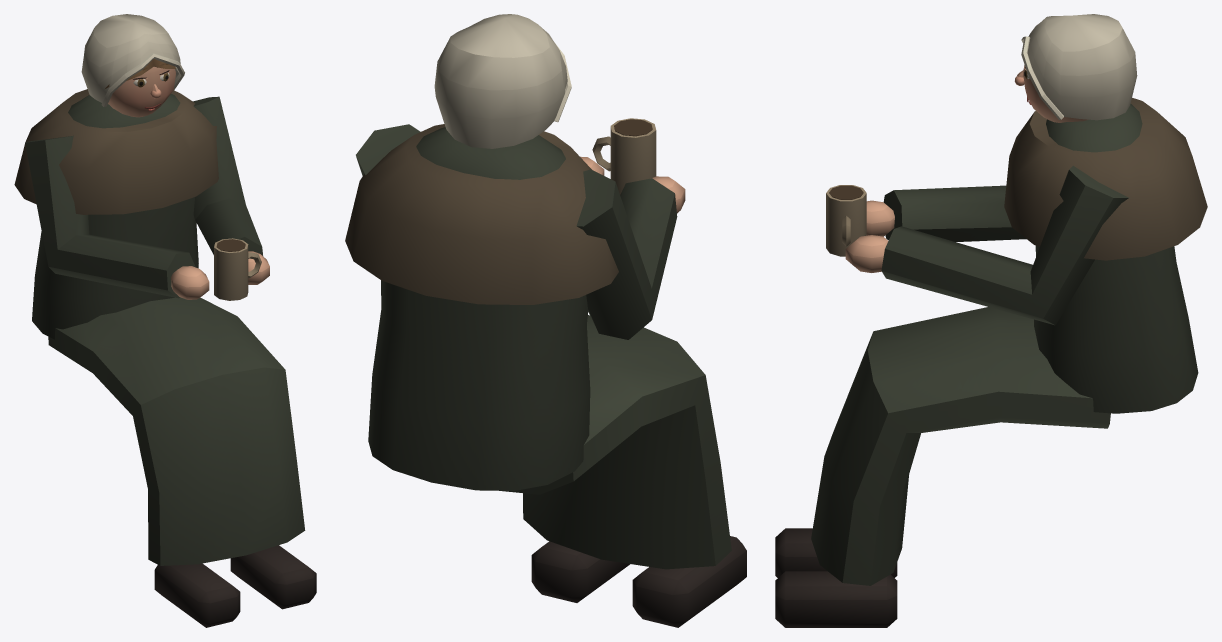
Rendered from ph_chr_guest_b.glb.
3 renders of one model, left to right at view 1: azimuth 30°, elevation 25°; view 2: azimuth 150°, elevation 25°; view 3: azimuth 270°, elevation 25°, orthographic. The views are drawn at different scales.
Visible parts, largest first — view 1: ph_chr_guest_b; view 2: ph_chr_guest_b; view 3: ph_chr_guest_b.
Boxes of the visible parts, <box> form: ph_chr_guest_b: <box>14,14,316,627</box>; ph_chr_guest_b: <box>345,14,746,627</box>; ph_chr_guest_b: <box>775,14,1207,627</box>.
Size of the model in its own units: 0.5159 by 1.26 by 0.85.
